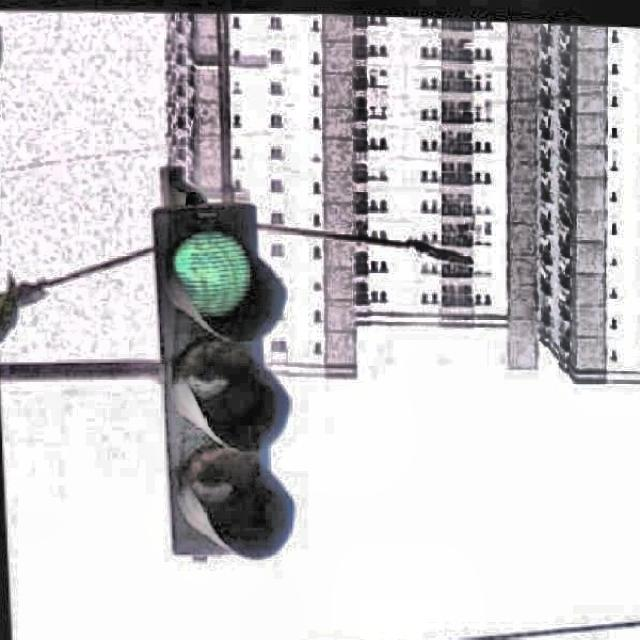green: (148, 198, 290, 561)
